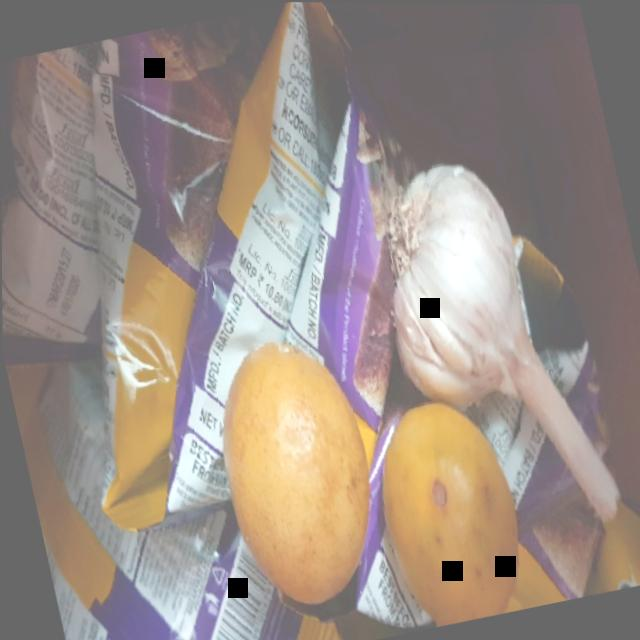garlic: (343, 125, 640, 568)
lemon: (182, 319, 401, 620), (360, 379, 539, 632)
